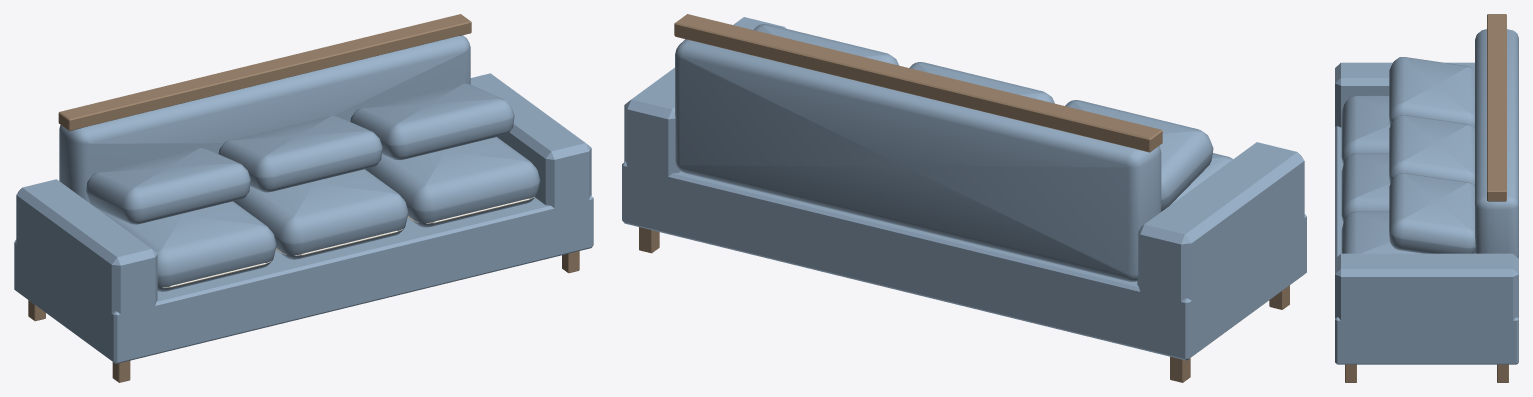
File: bedroom-and-living-room-furniture-sofa-three-seat-6be9b44b.glb
The picture shows the model from 3 angles, left to right: view 1: azimuth 30°, elevation 25°; view 2: azimuth 150°, elevation 25°; view 3: azimuth 270°, elevation 25°; orthographic projection. The views are drawn at different scales.
Visible parts, largest first — view 1: sofa-three-seat; view 2: sofa-three-seat; view 3: sofa-three-seat.
Part boxes in pixels (bbox=[...]): sofa-three-seat: bbox=[14, 14, 593, 382]; sofa-three-seat: bbox=[622, 14, 1306, 382]; sofa-three-seat: bbox=[1335, 14, 1518, 382].
Size of the model in its own units: 2.5 by 0.99 by 0.9199.
